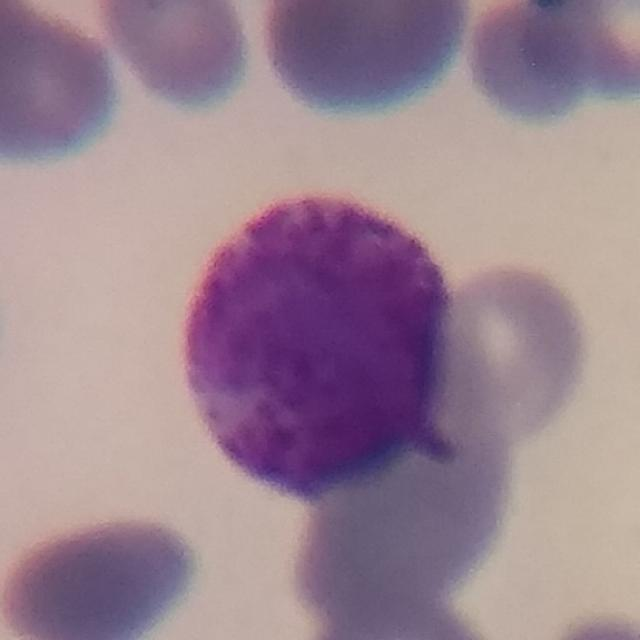baso: (178, 188, 459, 493)
